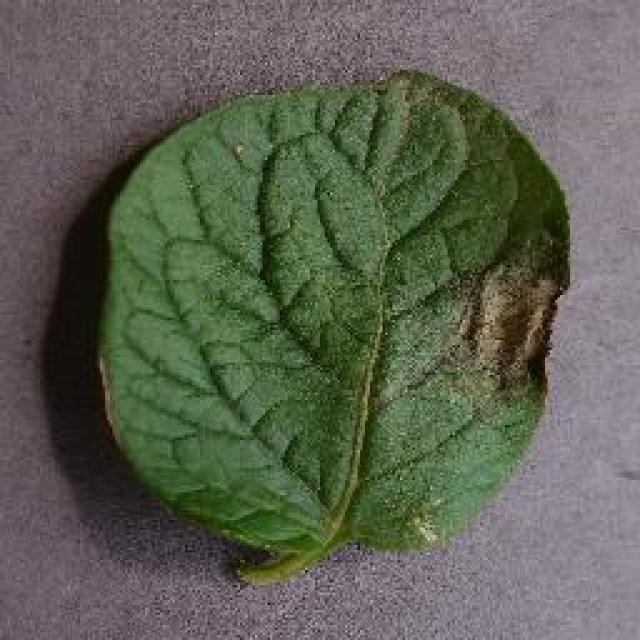late_blight: (93, 65, 575, 587)
